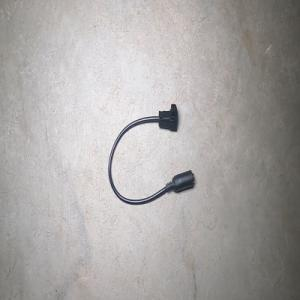Wire: (107, 104, 193, 204)
